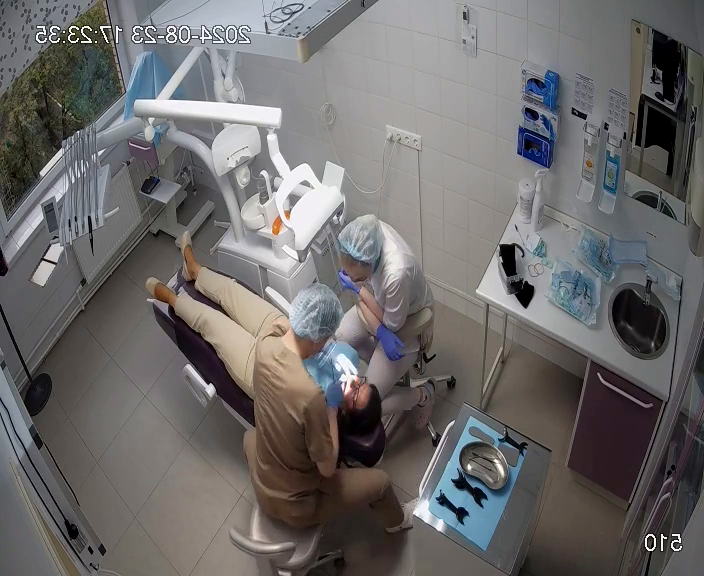Patient: (144, 227, 388, 469)
